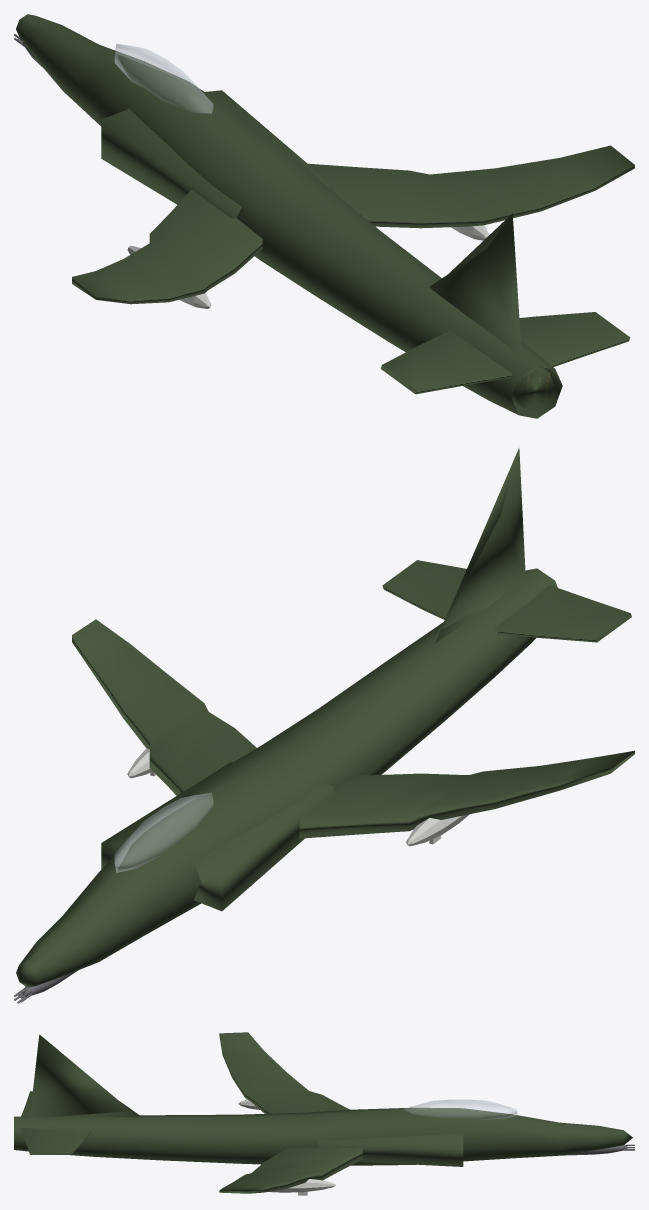
File: f4_phantom.glb
The picture shows the model from 3 angles, top to bottom: view 1: azimuth 30°, elevation 25°; view 2: azimuth 150°, elevation 25°; view 3: azimuth 270°, elevation 25°; orthographic projection. The views are drawn at different scales.
Parts seen in each view (by area): view 1: F4_Fuselage, F4_Wing_R, F4_Wing_L, F4_Exhaust_R, F4_Intake_L, F4_VFin_L, F4_VFin_L.001, F4_Canopy, F4_HStab_R, F4_Intake_R; view 2: F4_Fuselage, F4_Wing_L, F4_Wing_R, F4_Exhaust_R, F4_Intake_L, F4_VFin_L, F4_Canopy, F4_VFin_L.001, F4_Intake_R, F4_Tank_L; view 3: F4_Fuselage, F4_Wing_L, F4_Exhaust_R, F4_Wing_R, F4_Intake_R, F4_Canopy, F4_VFin_L.001, F4_Tank_R, F4_GunPod_M61.
Boxes of the visible parts, box(x1,y1,x2,y2) form: F4_Fuselage: box(16, 14, 562, 418); F4_Wing_R: box(308, 145, 634, 228); F4_Wing_L: box(72, 189, 262, 304); F4_Exhaust_R: box(429, 213, 521, 356); F4_Intake_L: box(101, 109, 241, 218); F4_VFin_L: box(380, 330, 512, 394); F4_VFin_L.001: box(519, 312, 630, 369); F4_Canopy: box(114, 43, 213, 113); F4_HStab_R: box(511, 365, 554, 410); F4_Intake_R: box(205, 90, 333, 191); F4_Fuselage: box(16, 568, 557, 987); F4_Wing_L: box(299, 750, 634, 838); F4_Wing_R: box(72, 619, 256, 795); F4_Exhaust_R: box(430, 448, 525, 646); F4_Intake_L: box(194, 783, 333, 911); F4_VFin_L: box(493, 585, 631, 642); F4_Canopy: box(114, 793, 213, 872); F4_VFin_L.001: box(382, 560, 466, 619); F4_Intake_R: box(101, 762, 232, 869); F4_Tank_L: box(406, 814, 469, 846); F4_Fuselage: box(14, 1107, 632, 1165); F4_Wing_L: box(219, 1032, 349, 1113); F4_Exhaust_R: box(30, 1034, 141, 1117); F4_Wing_R: box(219, 1147, 362, 1193); F4_Intake_R: box(318, 1133, 463, 1166); F4_Canopy: box(403, 1099, 517, 1120); F4_VFin_L.001: box(21, 1128, 91, 1154); F4_Tank_R: box(269, 1179, 335, 1192); F4_GunPod_M61: box(561, 1144, 634, 1155).
Bounding box in the file's own units: 11.6 × 4.45 × 19.35.
5 materials, 2 textured.
